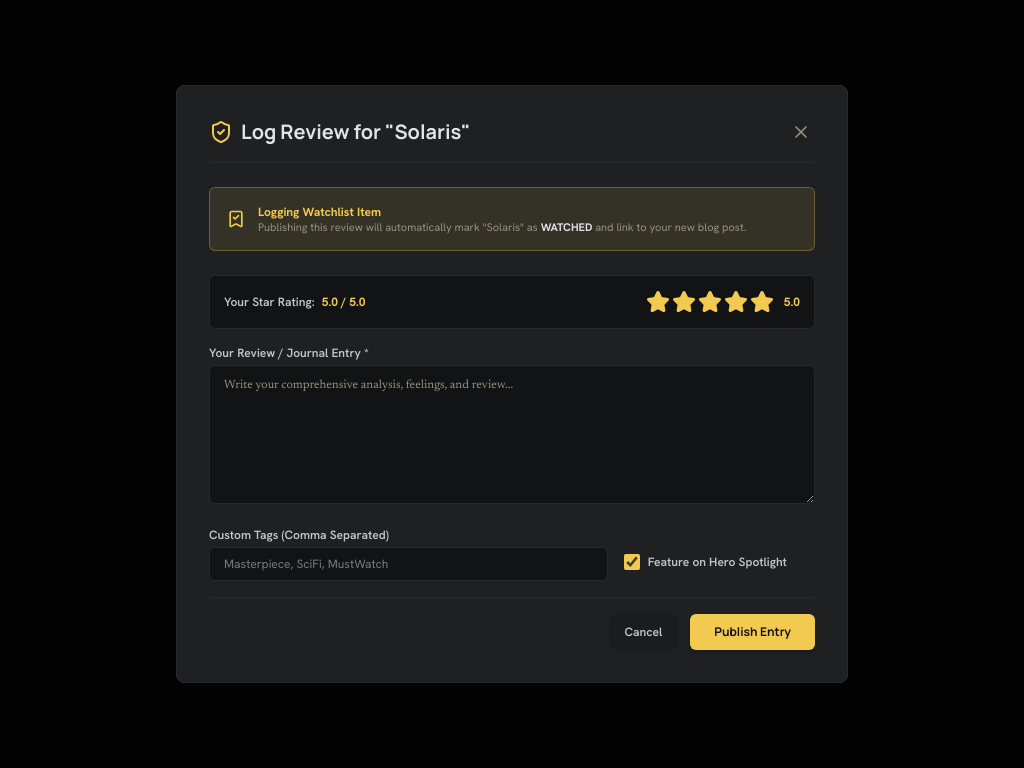
it: AdminModal › Logging review from Watchlist (watchlistItem provided) › renders watchlist banner, hides duplicate metadata fields, and submits review
Expected: the heading "Log Review for \"Solaris\"" is shown, [241,118,470,146]
Expected: the text "Logging Watchlist Item" is shown, [258,204,381,220]
Note: Enter review and tags (spotlight is true by default)
In the text box with placeholder "Write your comprehensive analysis, feelings, and review...": (512, 435) [209,365,815,504], type "Poetic, philosophical cinema at its greatest."
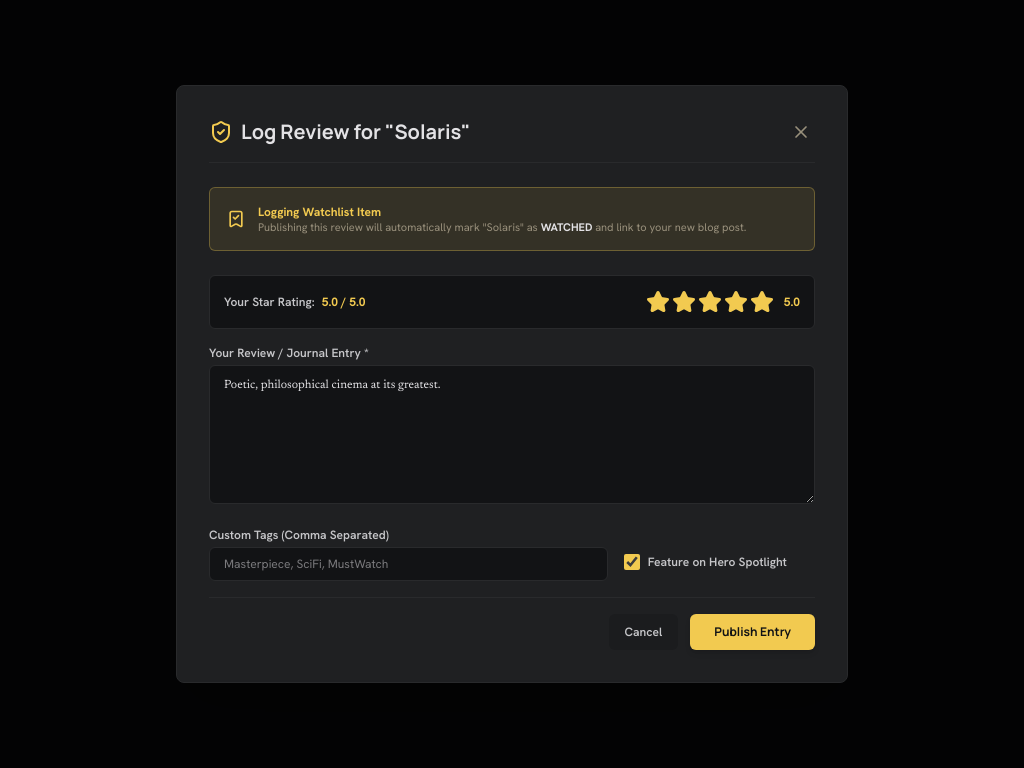
In the field with placeholder "Masterpiece, SciFi, MustWatch": (408, 564) [209,547,608,581], type "SciFi, Classics"
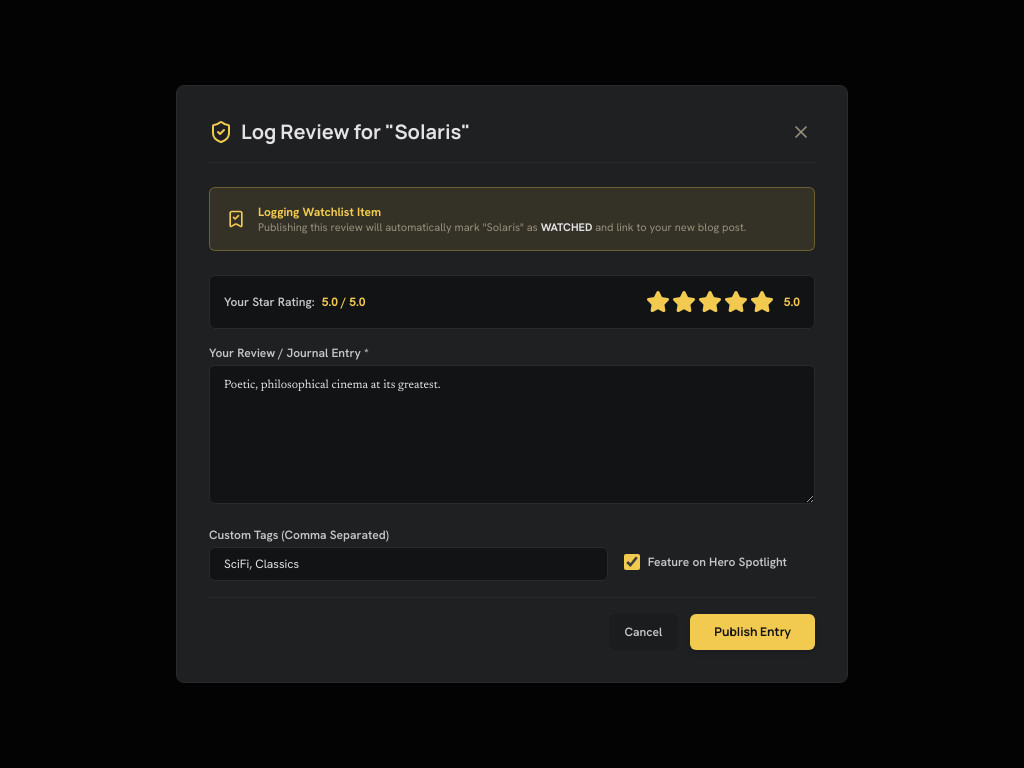
Submit the form named "publish entry", box [209,275,815,650]
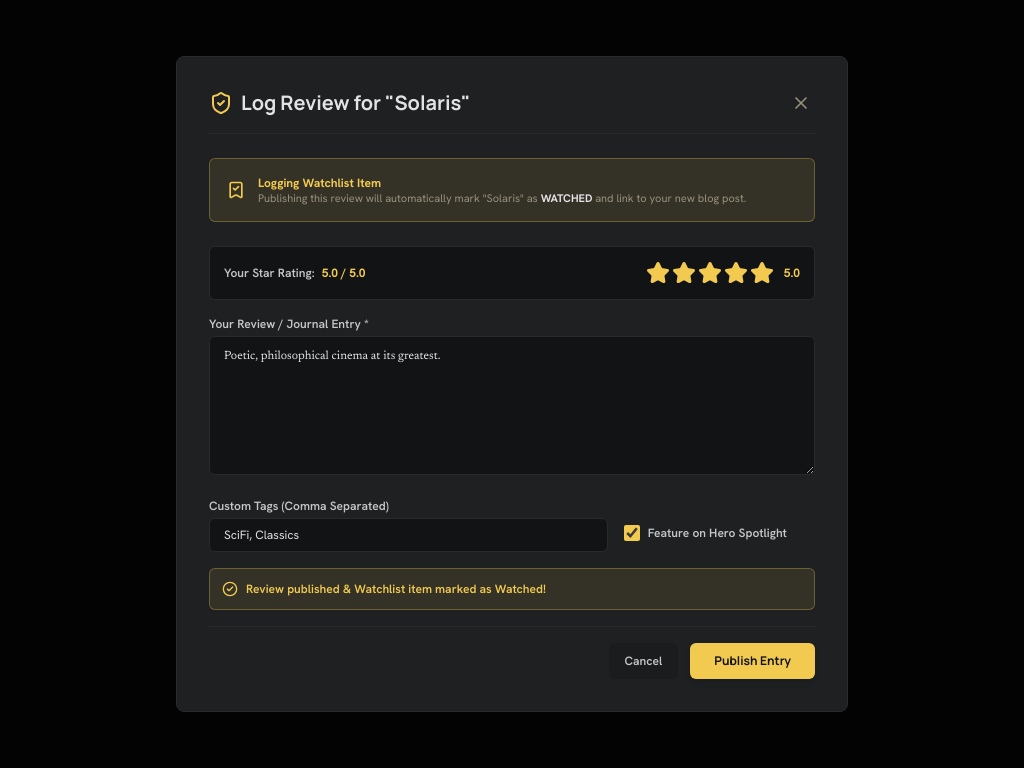
Now the text "Review published & Watchlist item marked as Watched!" is shown, box [209,568,815,610]
